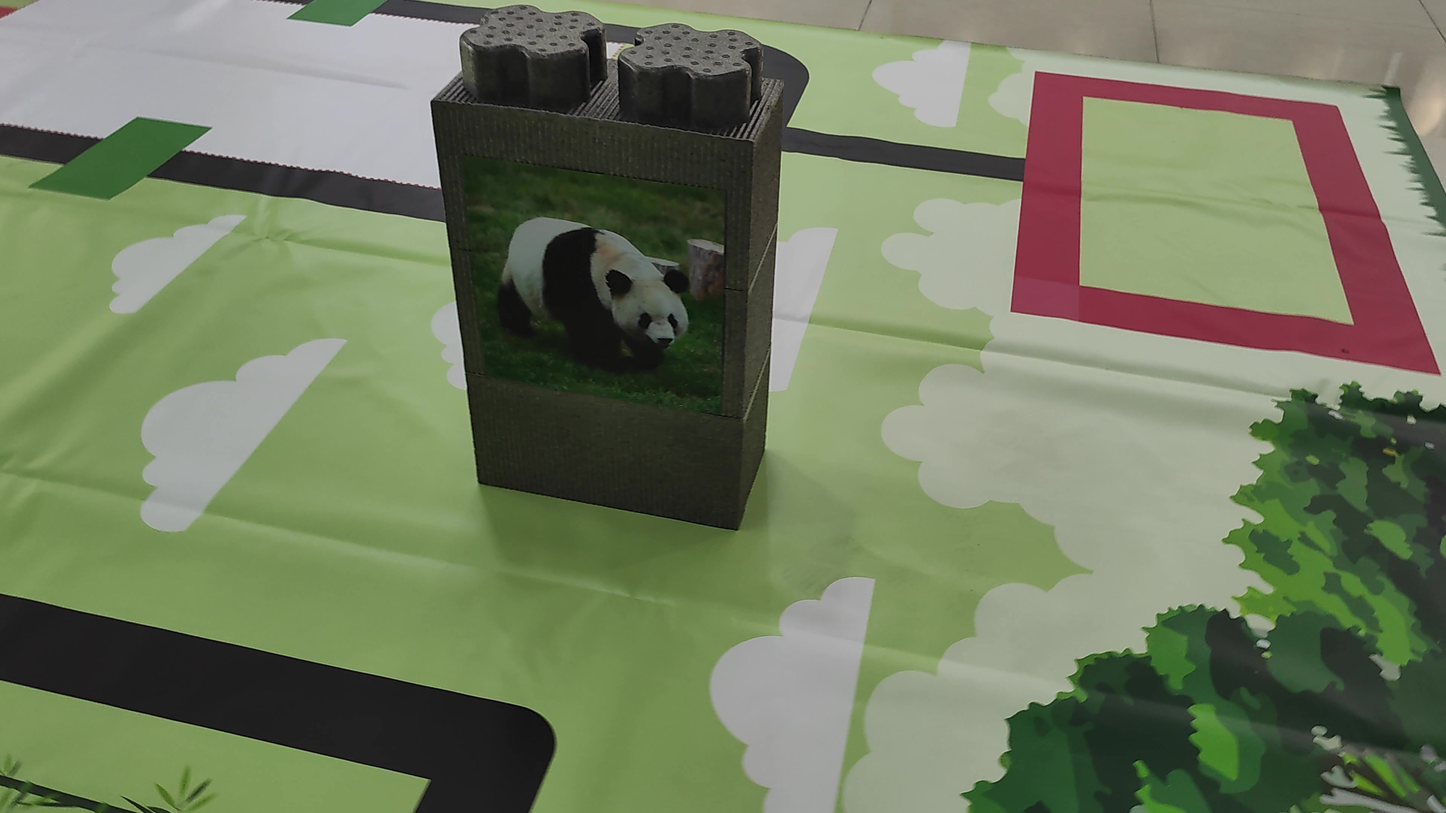panda: (482, 196, 700, 389)
